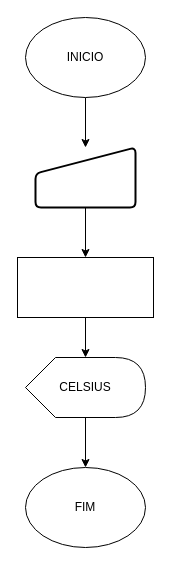
Image size: 171x565. Some labels were removed from this diagram. The shapes that lost their labels are listed below. From the top down, each one's centre as x and y in pixels, then its label:
At (85,177): "FAHRENHEIT".
At (85,287): "CELSIUS<- ((FAHREINT-32)*5)/9".
